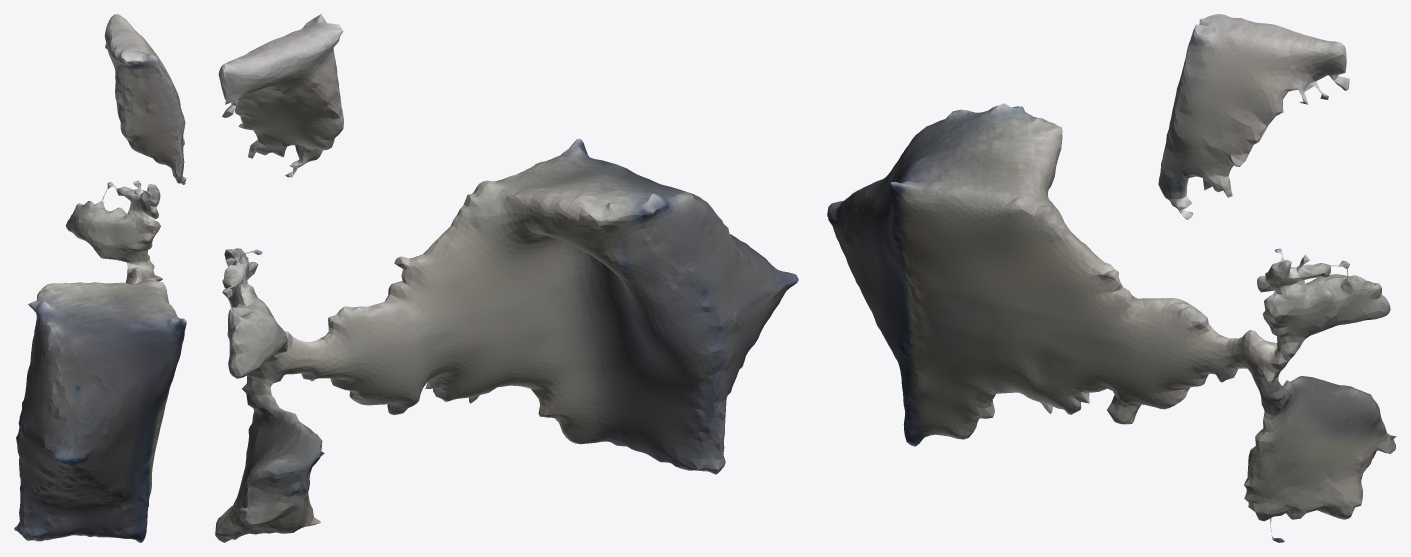
The model's file is IMG_SEG_11.glb.
3 views of the same model, side by side, from view 1: azimuth 30°, elevation 25°; view 2: azimuth 150°, elevation 25°; view 3: azimuth 270°, elevation 25° (orthographic). The views are drawn at different scales.
Bounding box in the file's own units: 0.647 × 0.8466 × 0.8761.
1 material, 1 textured.
